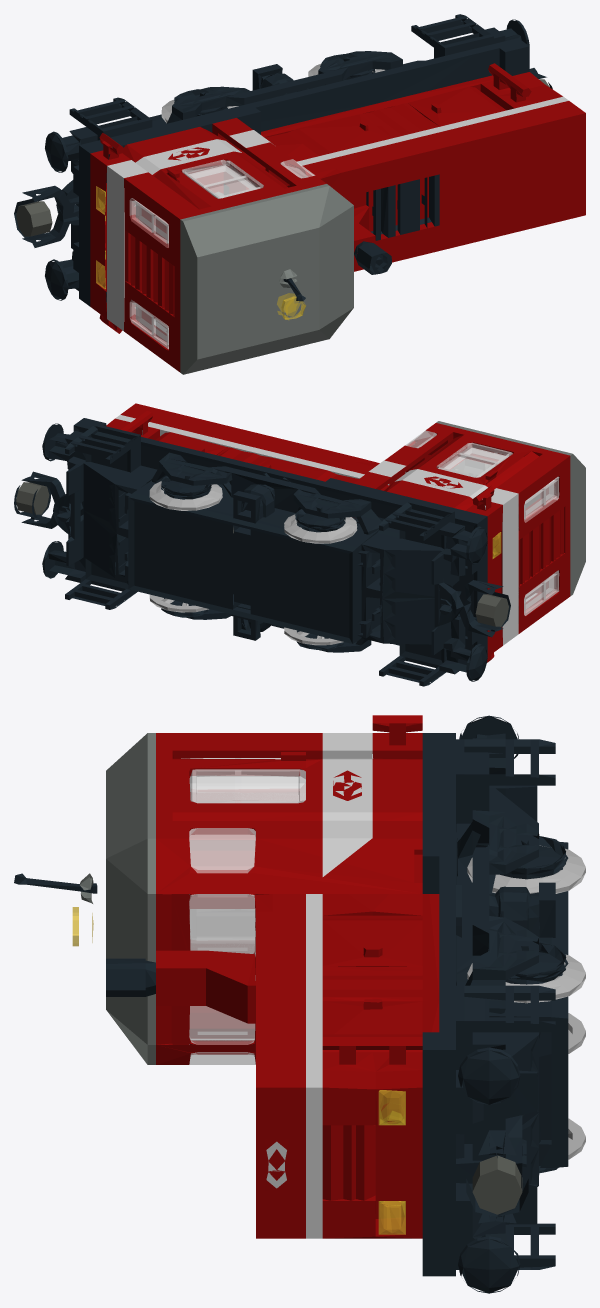
The model's file is locomotive.glb.
3 renders of one model, top to bottom at view 1: azimuth 30°, elevation 25°; view 2: azimuth 150°, elevation 25°; view 3: azimuth 270°, elevation 25°, orthographic. The views are drawn at different scales.
Size of the model in its own units: 170 by 59.21 by 110.
